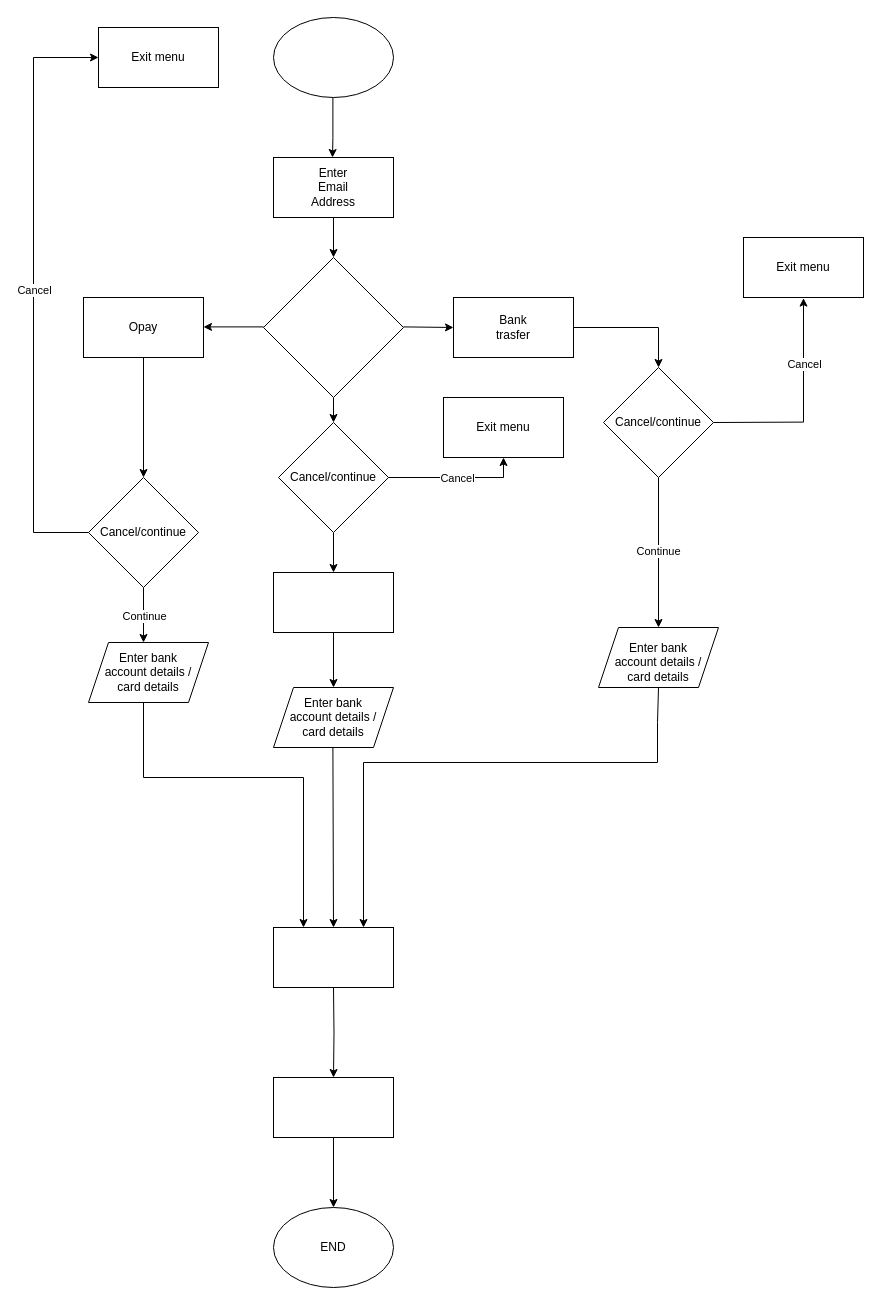
The diagram is 881 pixels wide and 1305 high, and some of its shapes have lost their labels. Here are the shapes that lost their labels. From the top down, the centre of each, then its label:
At pixel 333 57: "Start".
At pixel 333 327: "what payment method are you using payment method".
At pixel 333 602: "Bank Card".
At pixel 333 957: "send receipt to entered email address".
At pixel 333 1107: "Display thank you message".
